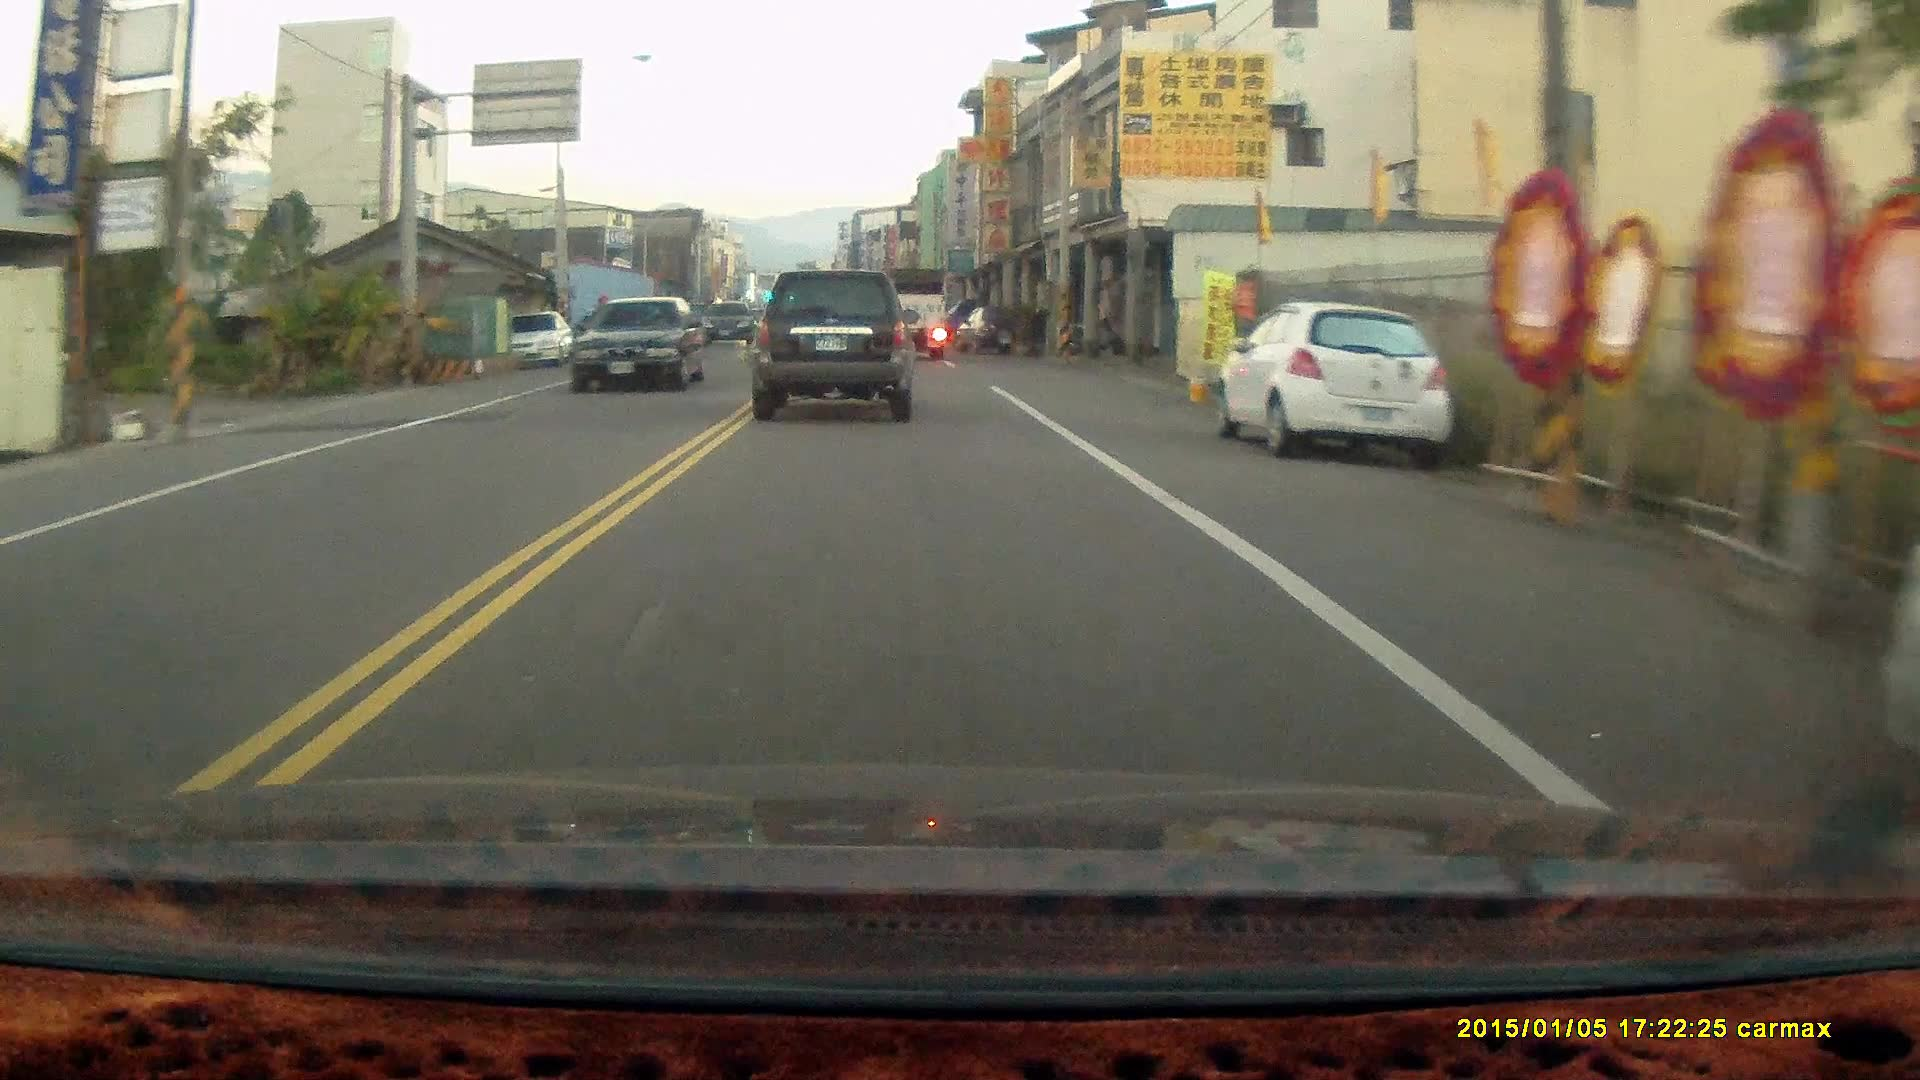vehicle: (1220, 299, 1452, 471), (746, 269, 918, 425), (571, 293, 715, 396), (877, 262, 953, 359), (493, 310, 575, 368)
